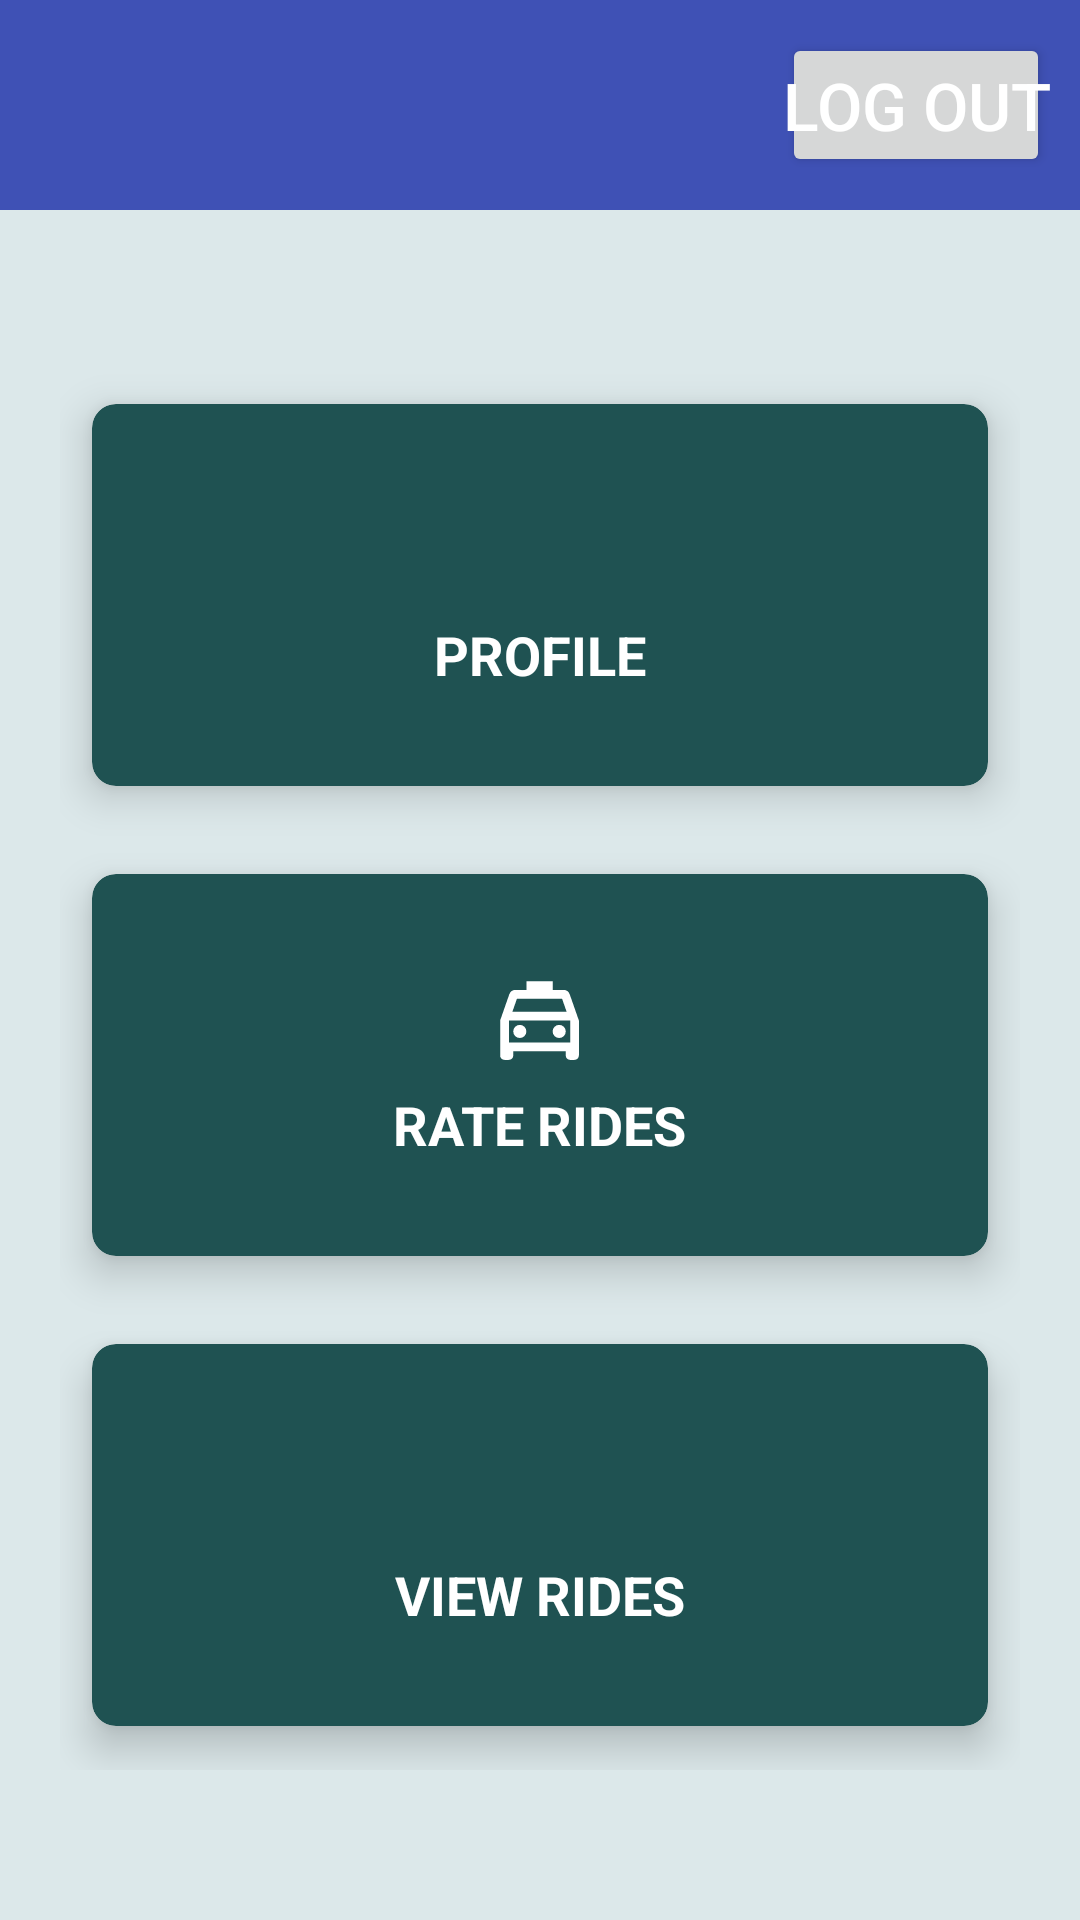

Locate icon controls on the screen. Image size 1080 × 1920, boxes as (x1, y1, x2, y2).
local taxi: (500, 981, 579, 1060)
